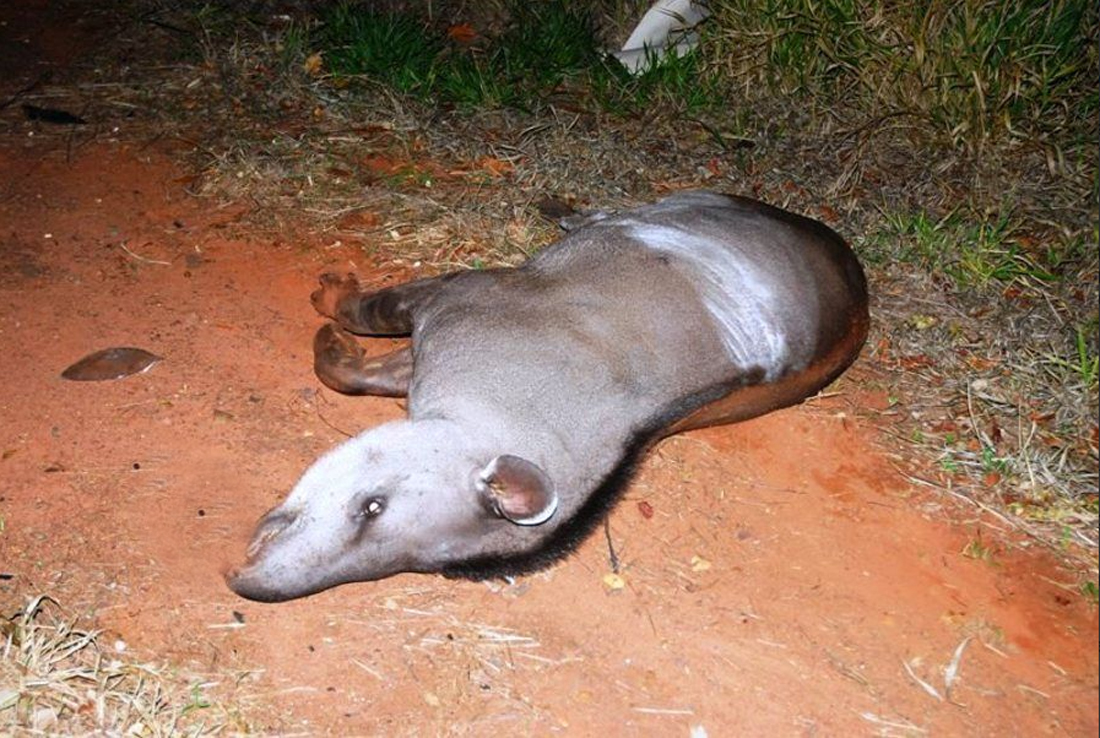Anta: (220, 177, 883, 615)
